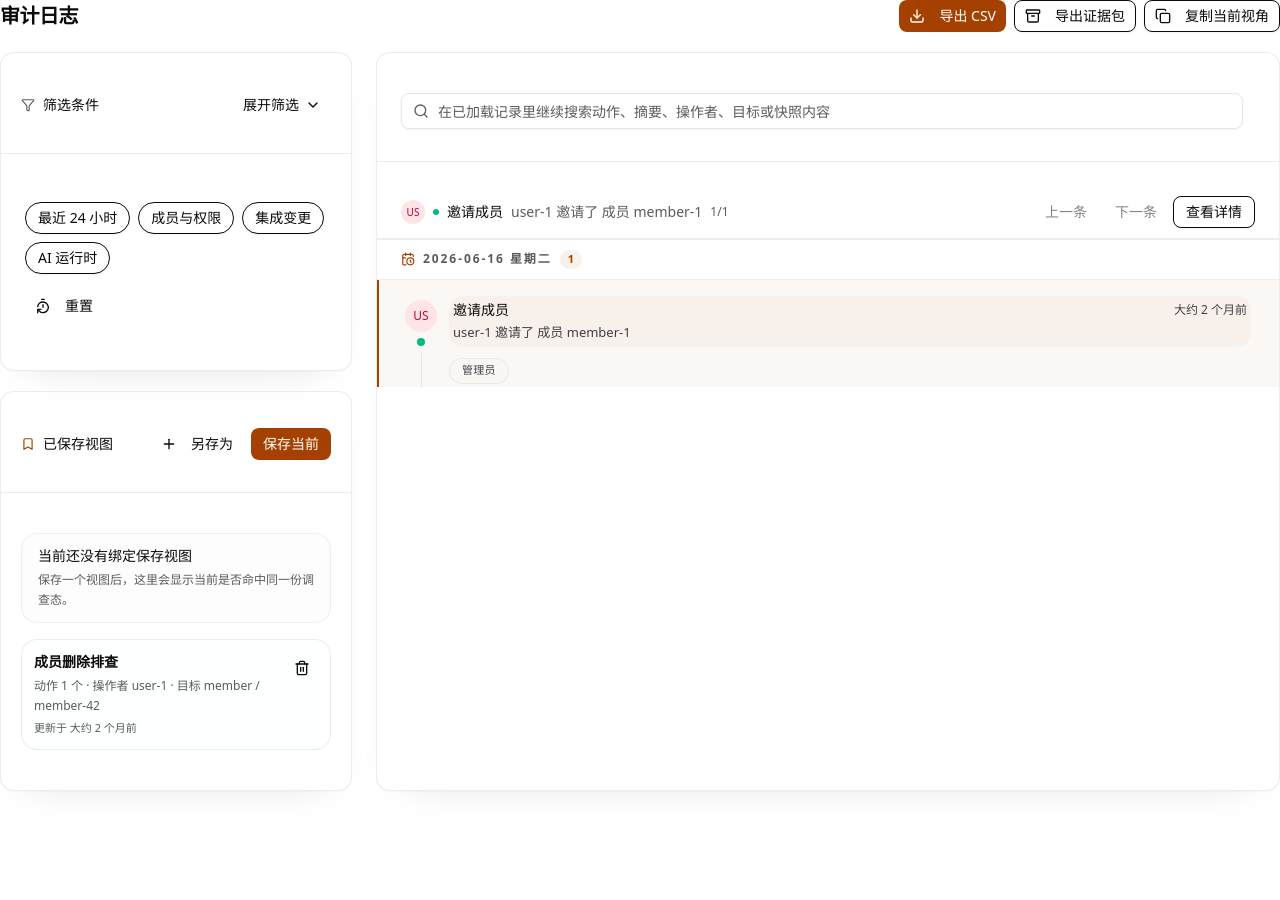
AuditLogPage › applies a saved investigation view from the sidebar
Click the button "成员删除排查".
click(154, 694)  # box x1=34 y1=652 x2=274 y2=736
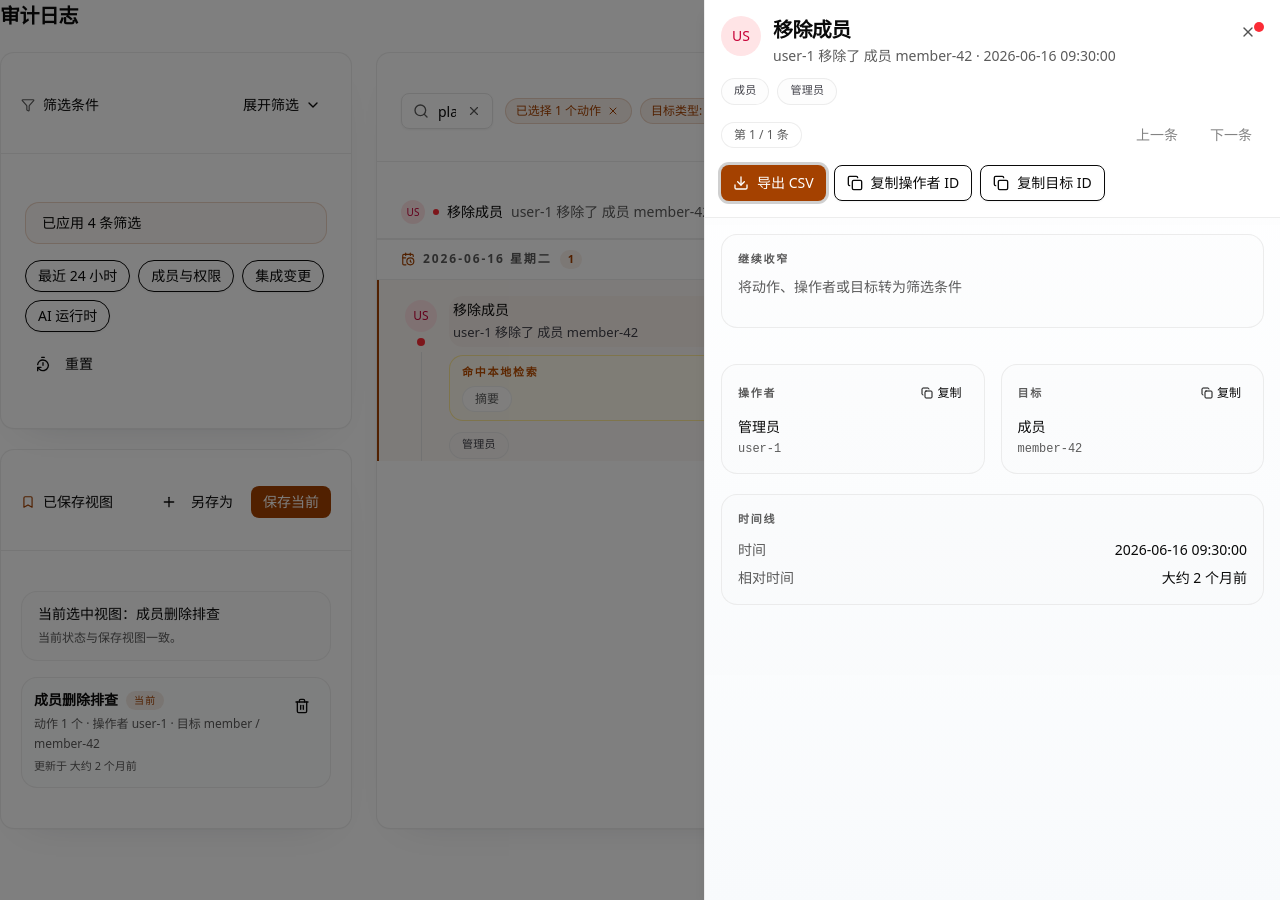
Now the text "当前选中视图：成员删除排查" is shown, box x1=38 y1=604 x2=220 y2=623
Now the text "当前状态与保存视图一致。" is shown, box x1=38 y1=629 x2=182 y2=646
